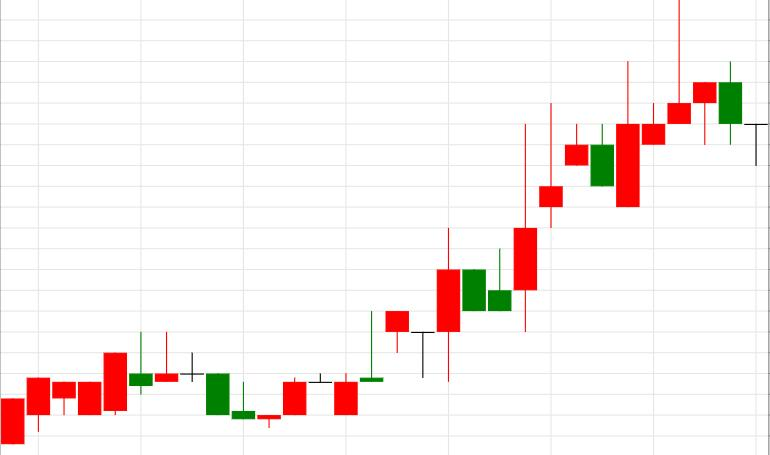shooting_star_fall: (334, 0, 691, 416)
